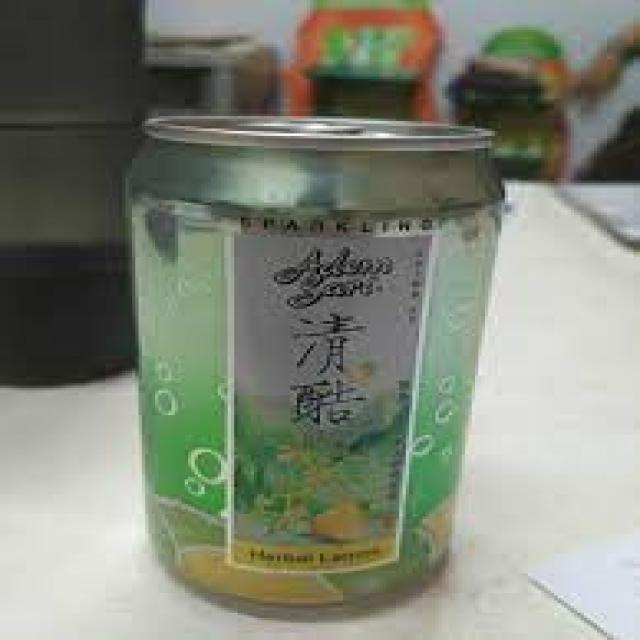ademsarikaleng: (119, 112, 508, 610)
